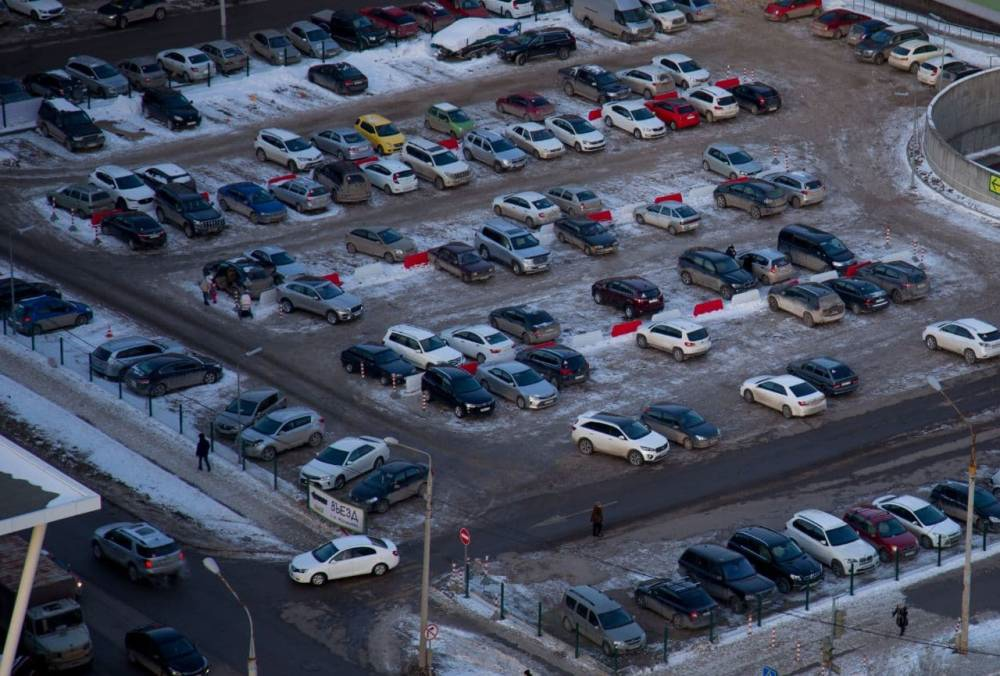Car: (0, 532, 94, 674), (677, 544, 777, 612), (727, 524, 825, 593), (785, 509, 880, 576), (91, 521, 185, 583), (562, 586, 646, 655), (288, 535, 400, 586), (571, 410, 671, 466), (298, 436, 390, 490), (871, 494, 962, 548), (235, 406, 325, 460), (634, 578, 721, 630), (843, 504, 921, 562), (474, 217, 552, 275), (124, 352, 224, 397), (124, 624, 210, 676), (428, 15, 523, 61), (348, 460, 428, 514), (276, 276, 365, 324), (476, 360, 559, 410), (738, 373, 828, 419), (90, 337, 186, 380), (678, 246, 757, 298), (153, 183, 226, 238), (421, 365, 495, 418), (399, 136, 473, 189), (928, 478, 1000, 532), (640, 402, 721, 450), (777, 223, 856, 272), (36, 97, 106, 152), (382, 322, 465, 368), (213, 386, 287, 437), (766, 281, 845, 327), (922, 317, 1000, 363), (7, 295, 94, 336), (571, 0, 655, 42), (253, 127, 325, 174), (634, 318, 712, 361), (515, 344, 591, 388), (203, 255, 275, 301), (855, 259, 929, 303), (591, 275, 665, 319), (496, 25, 577, 65), (339, 343, 418, 384), (310, 9, 389, 50), (87, 164, 154, 210), (713, 178, 788, 219), (786, 356, 859, 398), (558, 63, 632, 104), (854, 24, 929, 64), (488, 304, 561, 345), (216, 182, 287, 224), (98, 208, 169, 250), (461, 129, 529, 172), (440, 325, 517, 362), (240, 244, 313, 282), (430, 240, 496, 282), (141, 87, 204, 131), (600, 99, 667, 140), (65, 55, 130, 97), (345, 226, 417, 263), (492, 191, 562, 229), (312, 160, 371, 204), (544, 113, 607, 153), (761, 170, 827, 208), (553, 217, 619, 255), (823, 276, 890, 313), (502, 121, 565, 160), (632, 200, 702, 235), (41, 548, 88, 600), (47, 184, 116, 219), (22, 69, 89, 103), (267, 178, 332, 213), (702, 143, 765, 179), (0, 276, 61, 313), (156, 46, 217, 83), (308, 127, 375, 160), (735, 246, 793, 284), (353, 113, 405, 155), (286, 20, 342, 59), (649, 54, 711, 89), (359, 159, 419, 195), (361, 5, 420, 41), (94, 0, 167, 29), (887, 40, 953, 72), (684, 85, 739, 123), (193, 39, 250, 75), (248, 28, 302, 66), (617, 65, 677, 99), (308, 63, 369, 96), (544, 184, 603, 217), (811, 8, 872, 39), (424, 102, 476, 138), (646, 97, 701, 131), (727, 81, 782, 114), (117, 56, 170, 90), (134, 163, 197, 190), (495, 92, 553, 121), (640, 0, 689, 34), (405, 0, 454, 33), (916, 56, 968, 86), (763, 0, 824, 22), (4, 0, 65, 22), (846, 19, 889, 45), (938, 63, 983, 87), (481, 0, 534, 19), (674, 0, 717, 22), (438, 0, 489, 18), (535, 0, 566, 13), (991, 468, 1000, 500)
